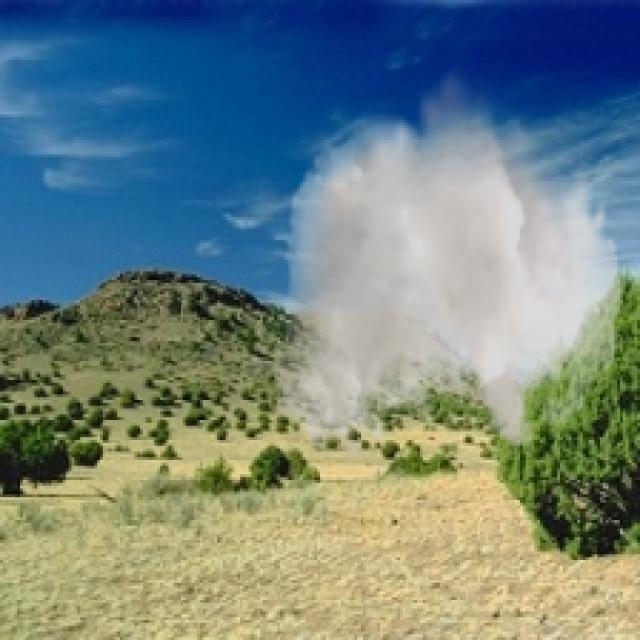smoke: (271, 63, 623, 460)
